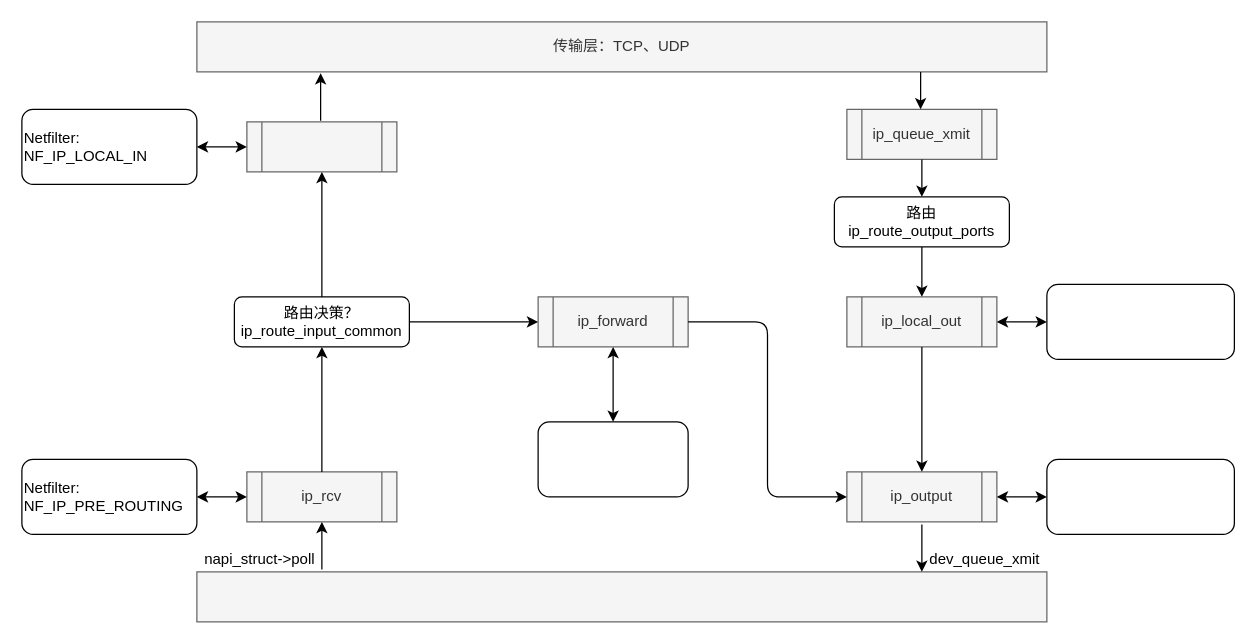
This 1256x644 diagram has some shape labels left out. Each missing label, with the centre of its shape:
"ip_local_deliver" belongs at point (321, 146).
"Netfilter: NF_IP_FORWARD" belongs at point (612, 459).
"Netfilter: NF_IP_LOCAL_OUT" belongs at point (1140, 321).
"Netfilter: NF_IP_POST_ROUTING" belongs at point (1140, 496).
"网络访问层（以太网等）" belongs at point (621, 596).
